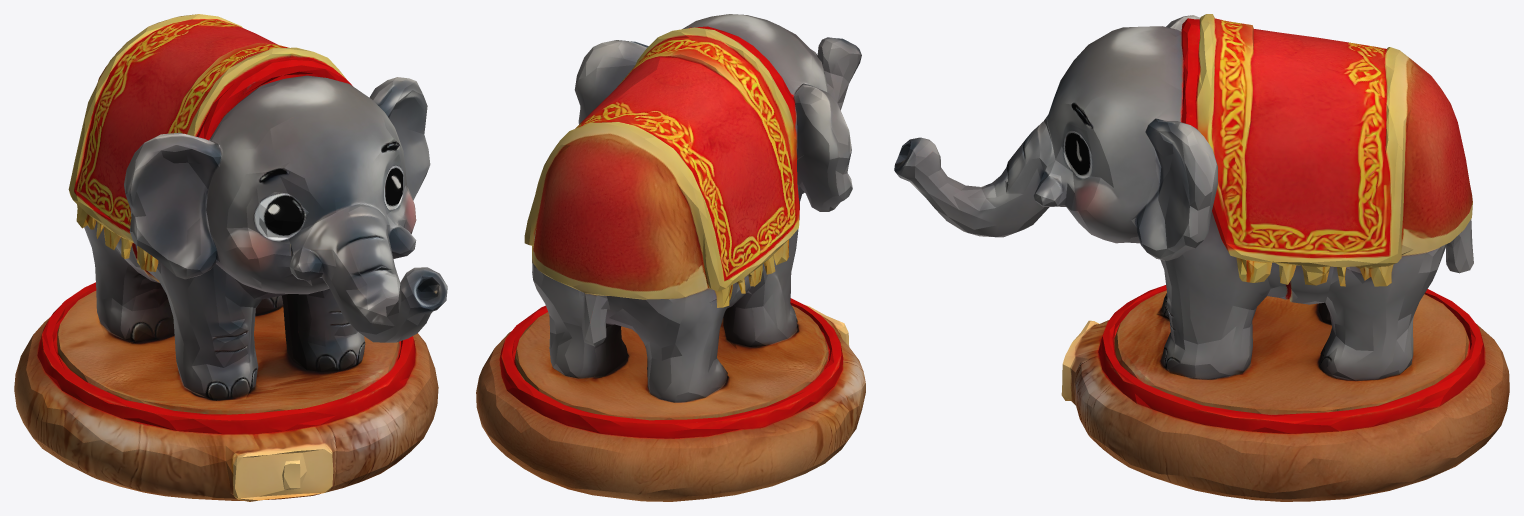
The model's file is elephant_red.glb.
The picture shows the model from 3 angles, left to right: view 1: azimuth 30°, elevation 25°; view 2: azimuth 150°, elevation 25°; view 3: azimuth 270°, elevation 25°; orthographic projection. The views are drawn at different scales.
Parts seen in each view (by area): view 1: Mesh; view 2: Mesh; view 3: Mesh.
Boxes of the visible parts, x1,y1,x2,y2 form: Mesh: [14, 14, 447, 501]; Mesh: [476, 14, 865, 501]; Mesh: [894, 14, 1509, 501].
Size of the model in its own units: 1.3 by 1.38 by 1.89.
1 material, 1 textured.
